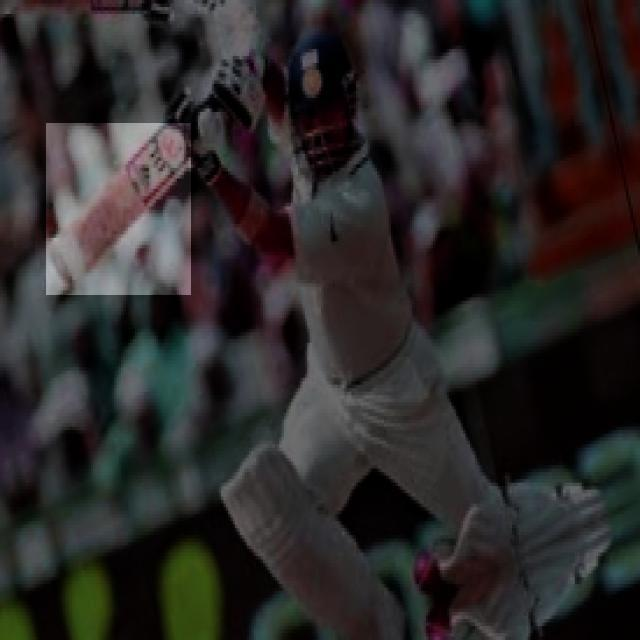bat: (47, 125, 193, 295)
toe: (46, 246, 81, 286)
